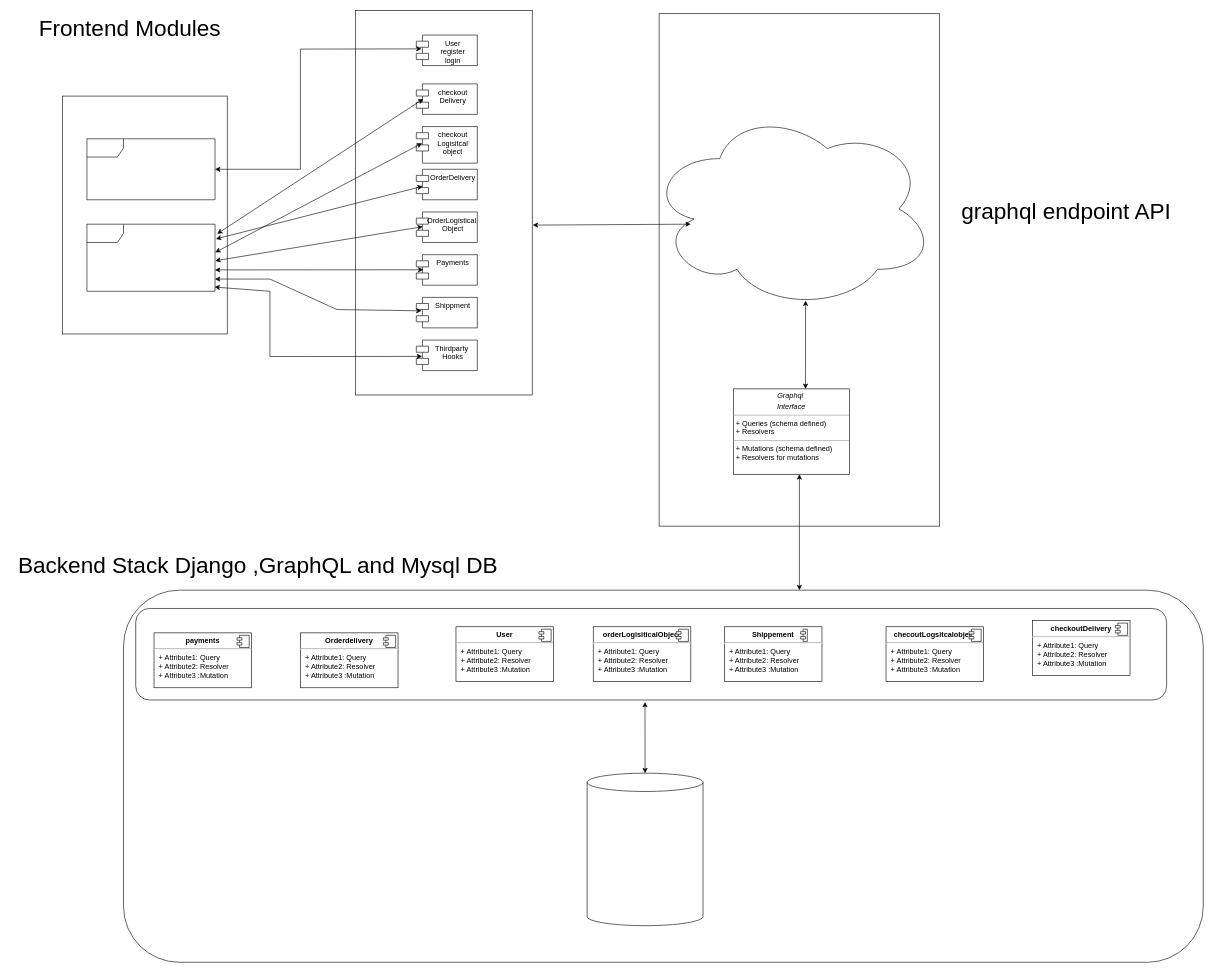
This 1214x973 diagram has some shape labels left out. The shapes that lost their labels are listed below. From the top down, each one's box as (x1, y1, x2, y2) in pixels, then its label:
(86, 138, 215, 200): Laning page
(648, 108, 935, 310): Internet
(86, 224, 215, 291): Dashboard
(587, 773, 703, 926): MySQL
